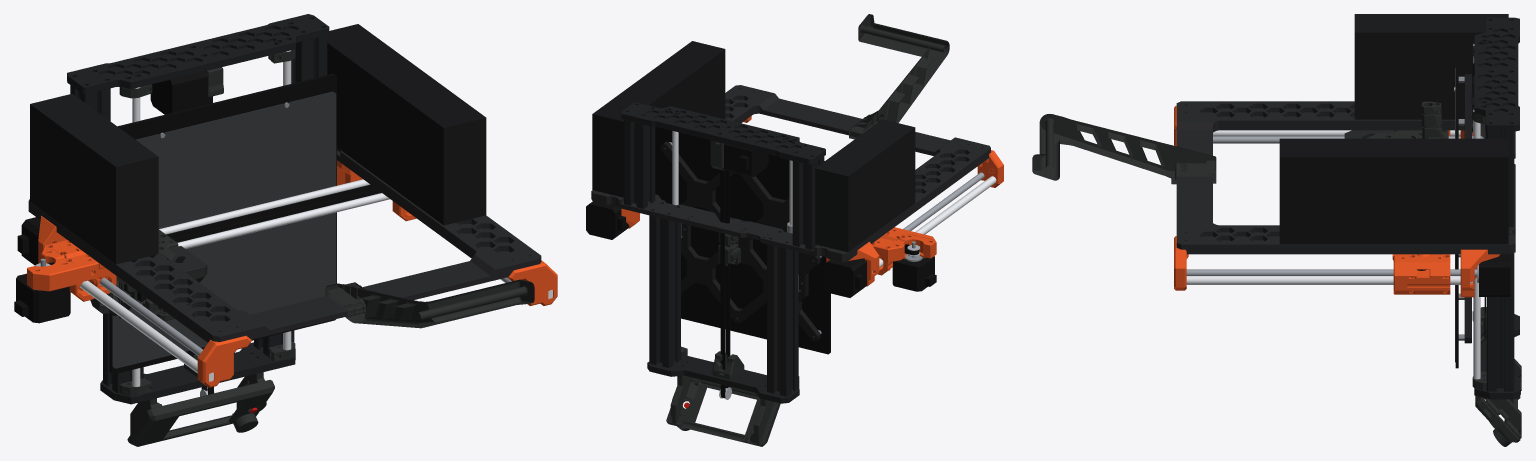
The picture shows the model from 3 angles, left to right: view 1: azimuth 30°, elevation 25°; view 2: azimuth 150°, elevation 25°; view 3: azimuth 270°, elevation 25°; orthographic projection. The views are drawn at different scales.
Visible parts, largest first — view 1: sheet, psu, frame, electronics-box, y-rear-plate, spool-holder, heatbed, xlcd-cover, x-end-motor, y-front-plate, x-belt, x-rod-top (+13 smaller); view 2: heatbed, frame, electronics-box, psu, y-carriage, y-extrusion-front-r, y-extrusion-front-l, y-rear-plate, spool-holder, y-extrusion-rear-r, xlcd-cover, y-front-plate (+15 smaller); view 3: psu, frame, electronics-box, spool-holder, y-rear-plate, y-extrusion-front-r, z-rod-right, x-end-idler, z-leadscrew-right, z-motor-right-motor, z-rod-left, z-bottom-right (+10 smaller).
Part boxes in pixels (x1=…): sheet: x1=112, y1=91, x2=336, y2=368; psu: x1=327, y1=24, x2=486, y2=225; frame: x1=28, y1=147, x2=541, y2=342; electronics-box: x1=30, y1=93, x2=158, y2=264; y-rear-plate: x1=67, y1=14, x2=329, y2=94; spool-holder: x1=325, y1=279, x2=534, y2=328; heatbed: x1=109, y1=73, x2=336, y2=374; xlcd-cover: x1=127, y1=380, x2=274, y2=446; x-end-motor: x1=27, y1=240, x2=116, y2=301; y-front-plate: x1=100, y1=342, x2=295, y2=404; x-belt: x1=47, y1=184, x2=381, y2=264; x-rod-top: x1=177, y1=193, x2=389, y2=248; heatbed: x1=655, y1=126, x2=830, y2=354; frame: x1=591, y1=85, x2=990, y2=262; electronics-box: x1=815, y1=119, x2=915, y2=252; psu: x1=592, y1=41, x2=725, y2=197; y-carriage: x1=660, y1=141, x2=820, y2=341; y-extrusion-front-r: x1=649, y1=215, x2=680, y2=367; y-extrusion-front-l: x1=767, y1=244, x2=798, y2=396; y-rear-plate: x1=621, y1=102, x2=825, y2=164; spool-holder: x1=849, y1=14, x2=949, y2=139; y-extrusion-rear-r: x1=624, y1=120, x2=655, y2=208; xlcd-cover: x1=666, y1=378, x2=780, y2=446; y-front-plate: x1=647, y1=356, x2=799, y2=403; psu: x1=1279, y1=138, x2=1508, y2=244; frame: x1=1176, y1=101, x2=1515, y2=254; electronics-box: x1=1354, y1=14, x2=1508, y2=119; spool-holder: x1=1032, y1=114, x2=1216, y2=184; y-rear-plate: x1=1474, y1=17, x2=1519, y2=131; y-extrusion-front-r: x1=1486, y1=253, x2=1514, y2=391; z-rod-right: x1=1186, y1=276, x2=1472, y2=284; x-end-idler: x1=1392, y1=254, x2=1450, y2=294; z-leadscrew-right: x1=1186, y1=269, x2=1477, y2=276; z-motor-right-motor: x1=1479, y1=254, x2=1510, y2=296; z-rod-left: x1=1213, y1=130, x2=1460, y2=136; z-bottom-right: x1=1460, y1=249, x2=1499, y2=297.
Size of the model in its own units: 458 by 425 by 534.
